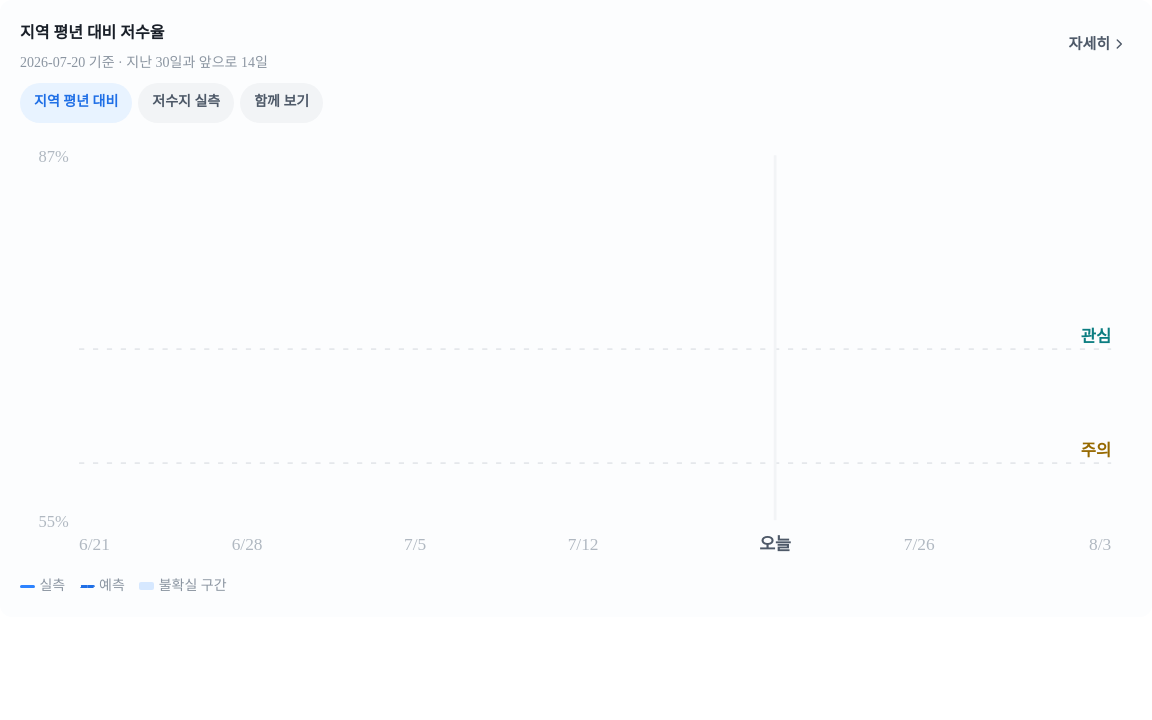
Scenario: TrendChartCard 지표 토글 3종 › 함께 보기: 예측선·밴드를 유지한 채 참고선을 덧그린다
Click the button "함께 보기": click(282, 103) [240,83,323,123]
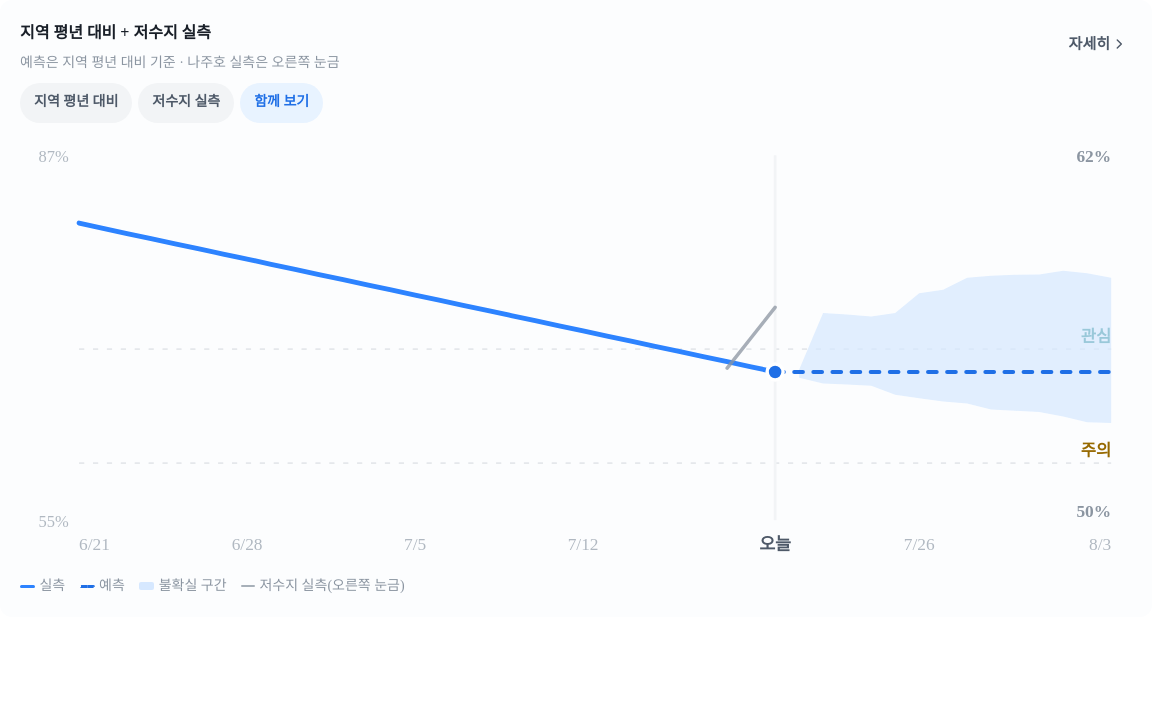
Expected: the element with test id "trend-band" is shown, [799,270,1111,422]
Expected: the text "오른쪽 눈금" is shown, [20,55,340,70]
